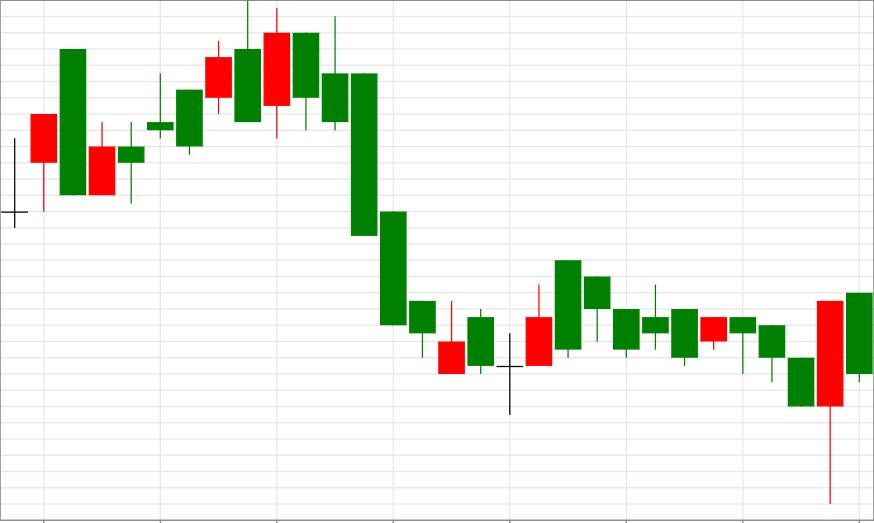morning_star_rise: (293, 16, 552, 414)
